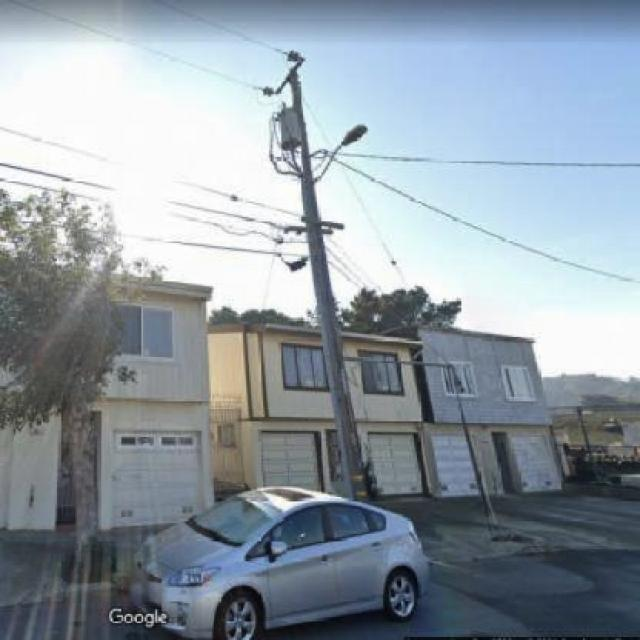pole: (283, 49, 374, 498)
transformer: (268, 100, 303, 153)
wire: (319, 148, 639, 284), (7, 1, 263, 93), (305, 98, 409, 285), (153, 0, 281, 54), (310, 152, 640, 167), (169, 200, 304, 232), (169, 212, 303, 243), (134, 237, 308, 257), (195, 185, 300, 218), (0, 162, 112, 190), (0, 177, 97, 202)
